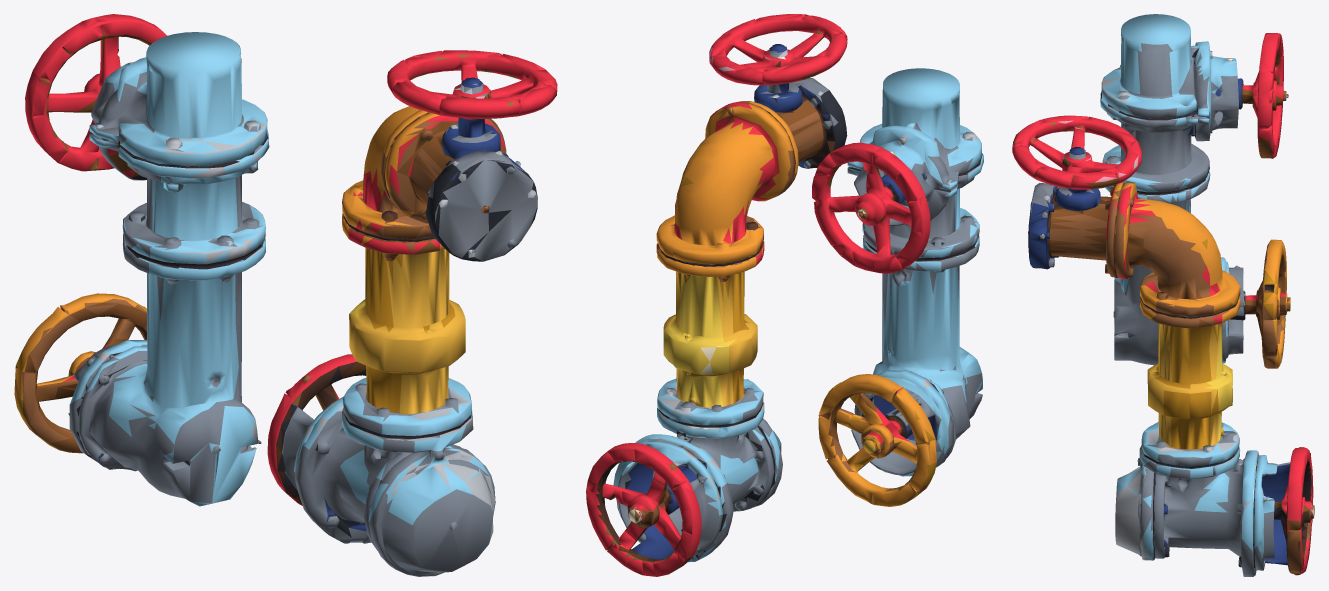
File: SM_pipes_valve.fbx
3 renders of one model, left to right at view 1: azimuth 30°, elevation 25°; view 2: azimuth 150°, elevation 25°; view 3: azimuth 270°, elevation 25°, orthographic. The views are drawn at different scales.
Visible parts, largest first — view 1: SM_pipes_valve; view 2: SM_pipes_valve; view 3: SM_pipes_valve.
Part boxes in pixels (x1=…): SM_pipes_valve: x1=14, y1=14, x2=557, y2=576; SM_pipes_valve: x1=586, y1=14, x2=983, y2=576; SM_pipes_valve: x1=1012, y1=14, x2=1314, y2=576.
Size of the model in its own units: 73.03 by 100 by 60.8.
1 material, 1 textured.
